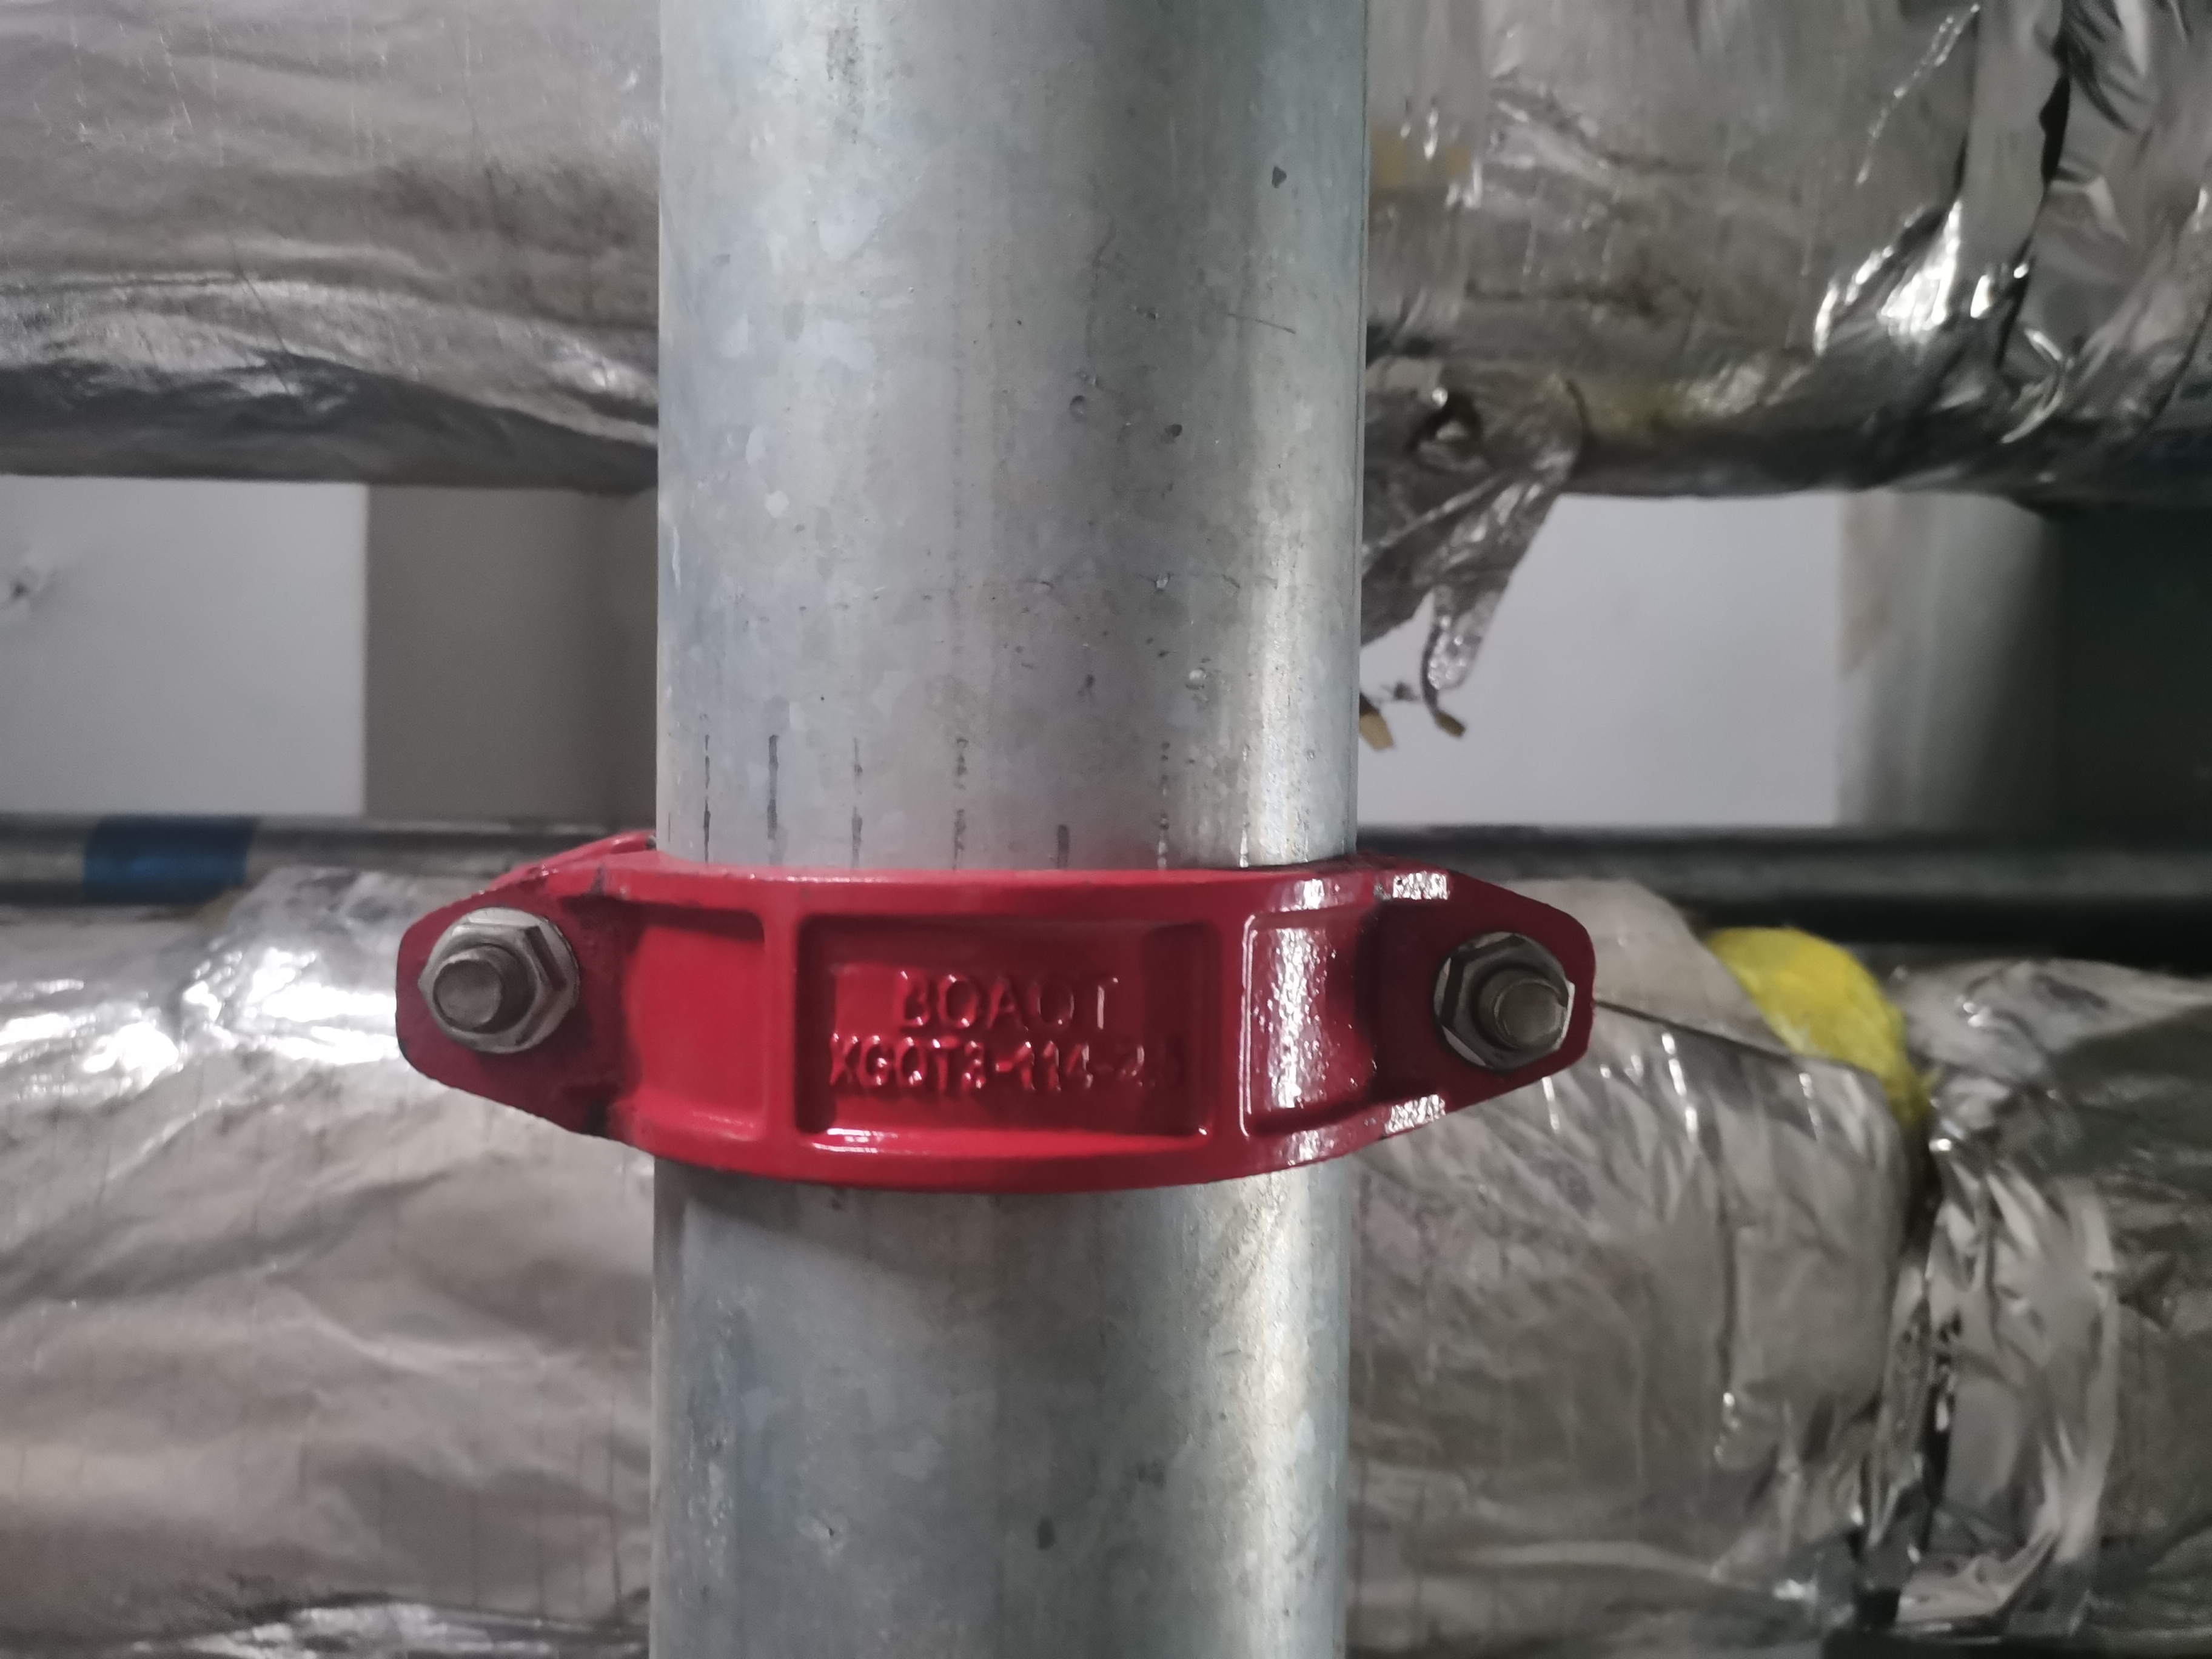bolt_b: (415, 906, 575, 1054), (1432, 925, 1578, 1077)
